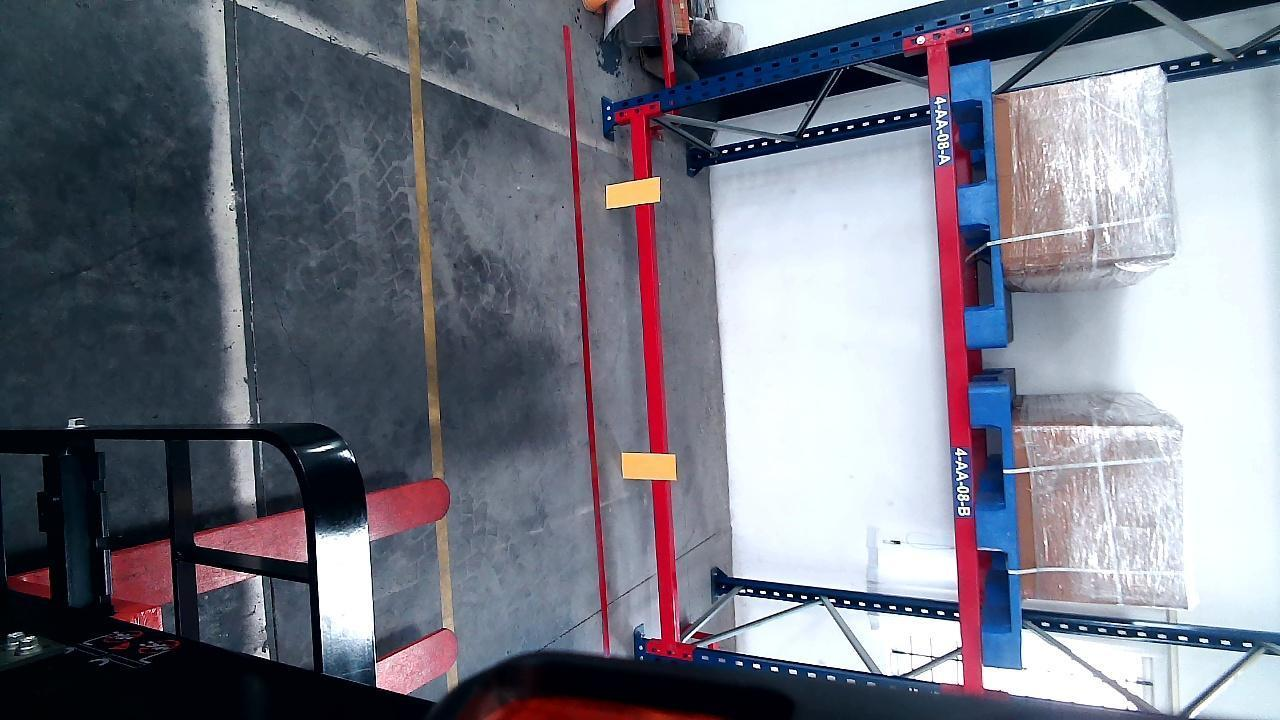h_rack: (928, 48, 982, 647), (634, 117, 672, 634)
orange_strip: (604, 177, 660, 207), (621, 451, 676, 479)
red_line: (570, 66, 607, 630)
small_pallet: (953, 62, 1003, 342), (974, 393, 1024, 654)
yellow_line: (406, 10, 460, 710)
